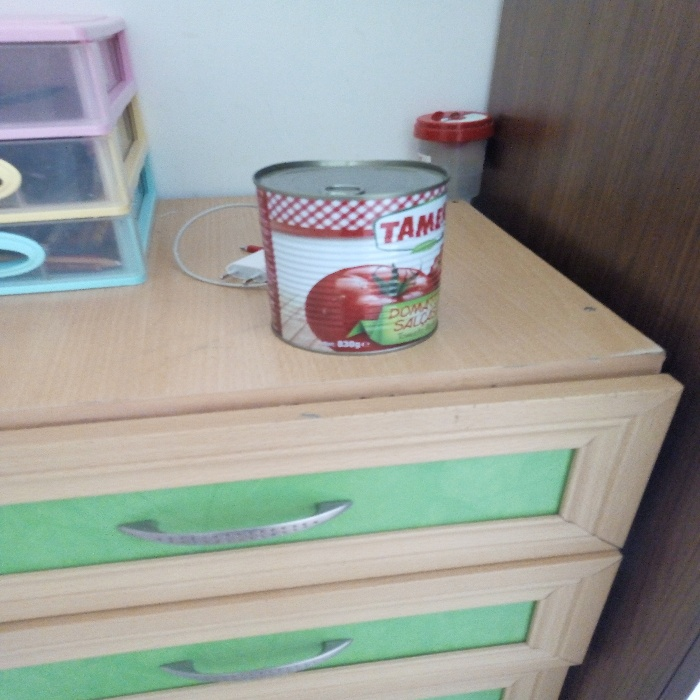salca: (242, 139, 476, 363)
